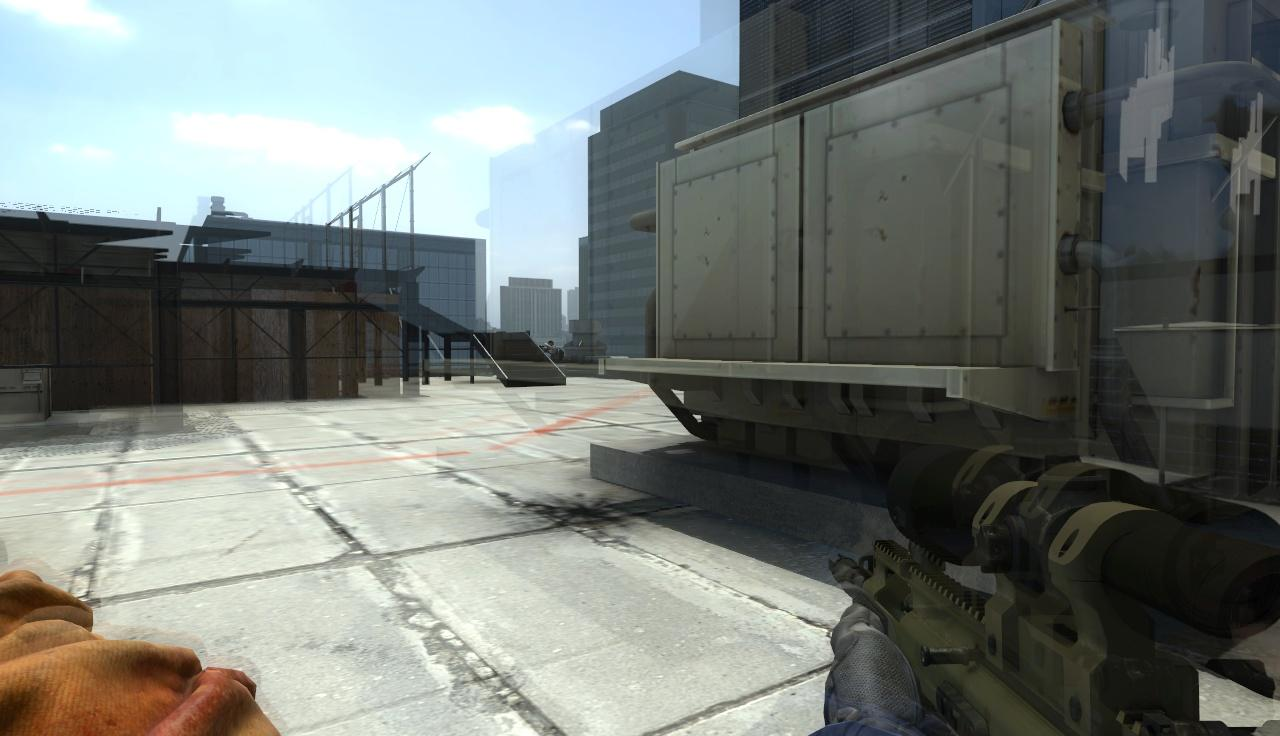sniper: (821, 439, 1280, 736)
tt: (547, 340, 561, 361)
tthead: (548, 340, 554, 346)
